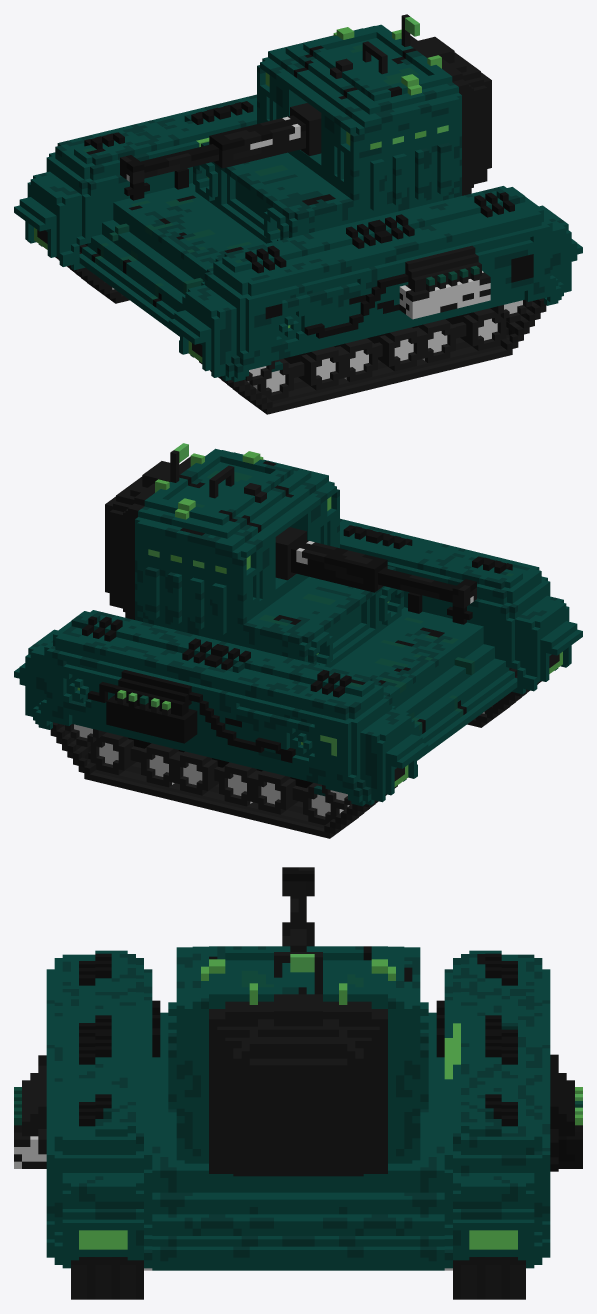
The model's file is Tank 1.obj.
3 renders of one model, top to bottom at view 1: azimuth 30°, elevation 25°; view 2: azimuth 150°, elevation 25°; view 3: azimuth 270°, elevation 25°, orthographic. The views are drawn at different scales.
Bounding box in the file's own units: 6.9 × 4.6 × 7.
Materials: 1 (1 with a texture image).
